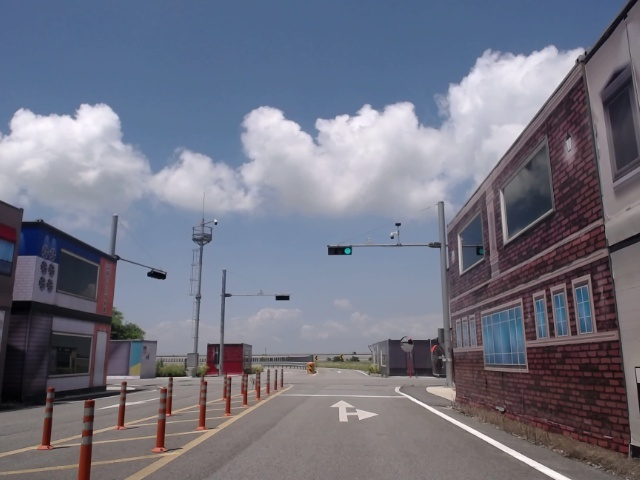green_3: (327, 247, 352, 255)
